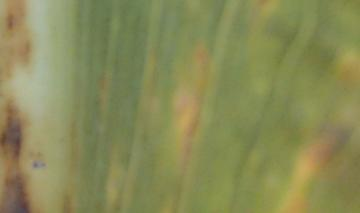tarspot: (32, 160, 47, 169)
